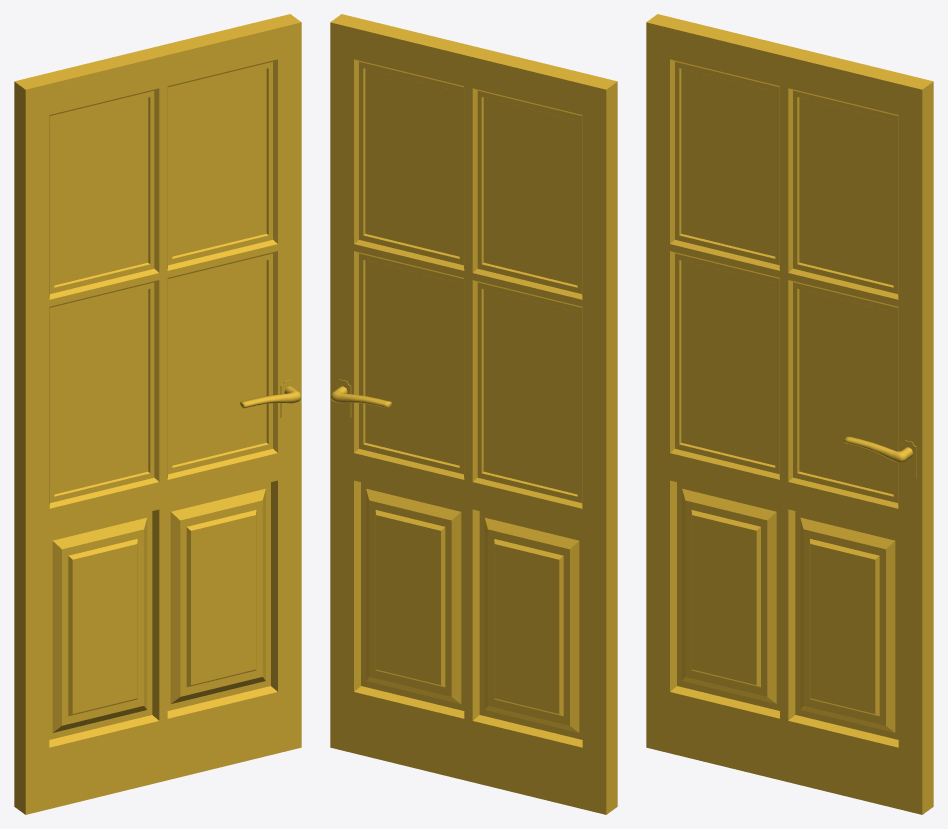
File: Door_in_001.fbx
3 renders of one model, left to right at view 1: azimuth 30°, elevation 25°; view 2: azimuth 150°, elevation 25°; view 3: azimuth 330°, elevation 25°, orthographic.
Parts seen in each view (by area): view 1: Door_in_001; view 2: Door_in_001; view 3: Door_in_001.
Part boxes in pixels (x1,y1,x2,y2): Door_in_001: (14, 14, 301, 814); Door_in_001: (330, 14, 617, 814); Door_in_001: (646, 14, 933, 814).
Bounding box in the file's own units: 83.29 × 209 × 16.94.
